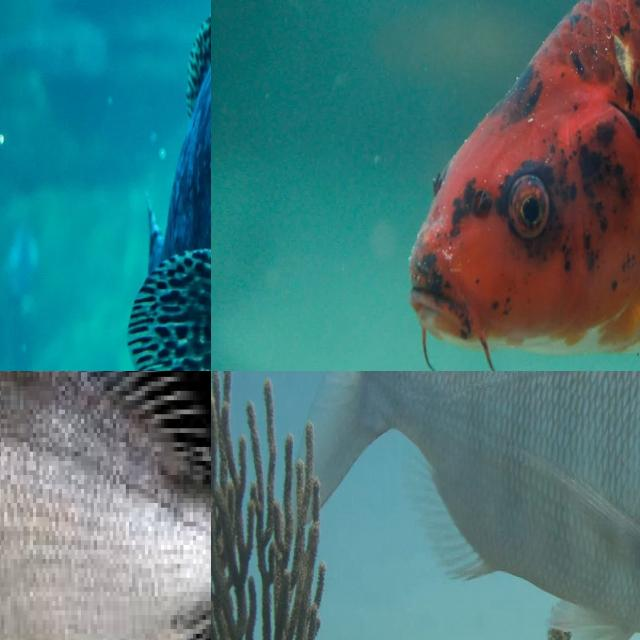fish: (244, 43, 640, 364), (332, 371, 640, 640), (0, 0, 211, 371), (0, 371, 211, 640)
